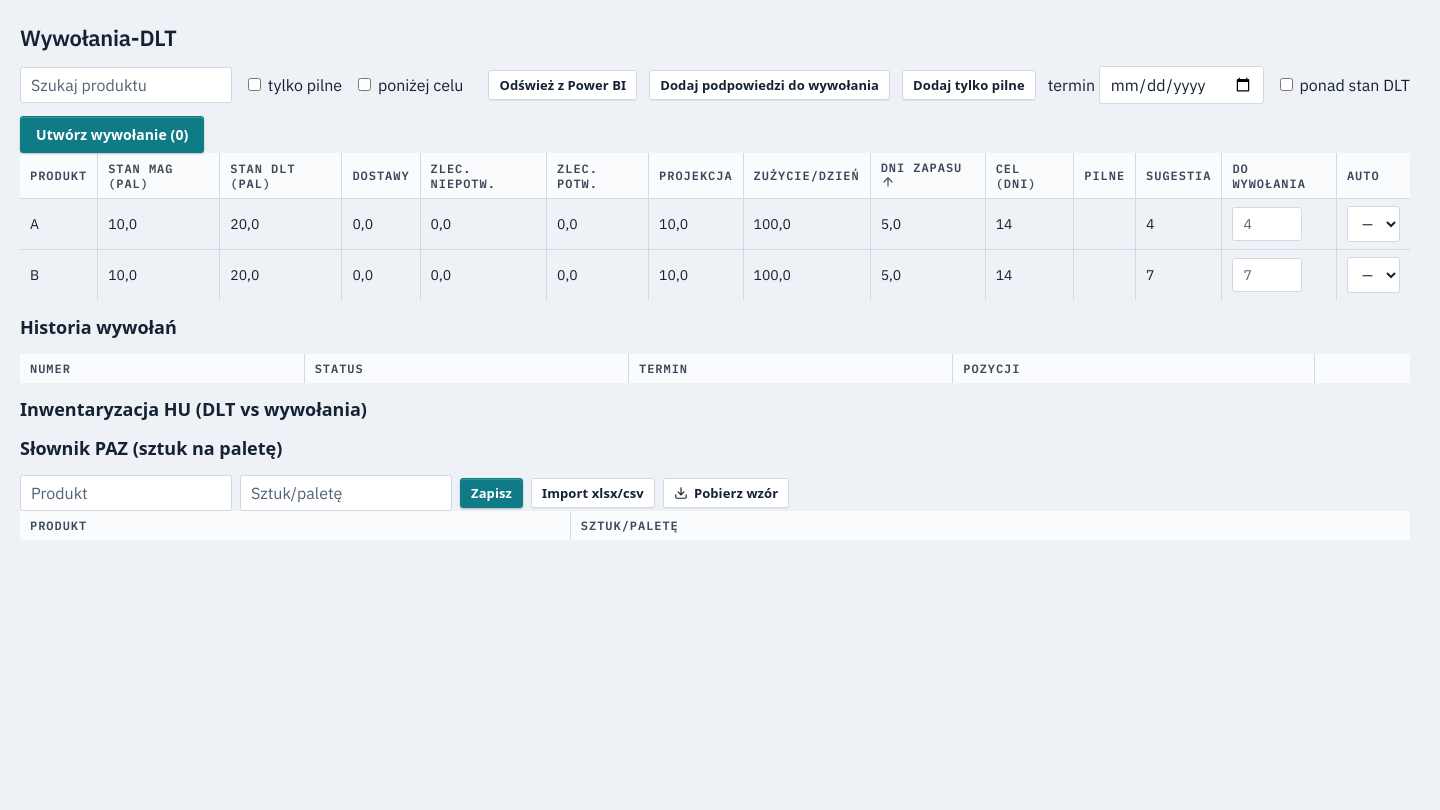
Test: kreator wywołania › prefill z podpowiedzi + przydział auta pokazuje licznik zajętości
expect the text "A" is shown: met, box [20, 198, 98, 249]
Click the button "Dodaj podpowiedzi do wywołania" at (770, 86), box [649, 70, 890, 100]
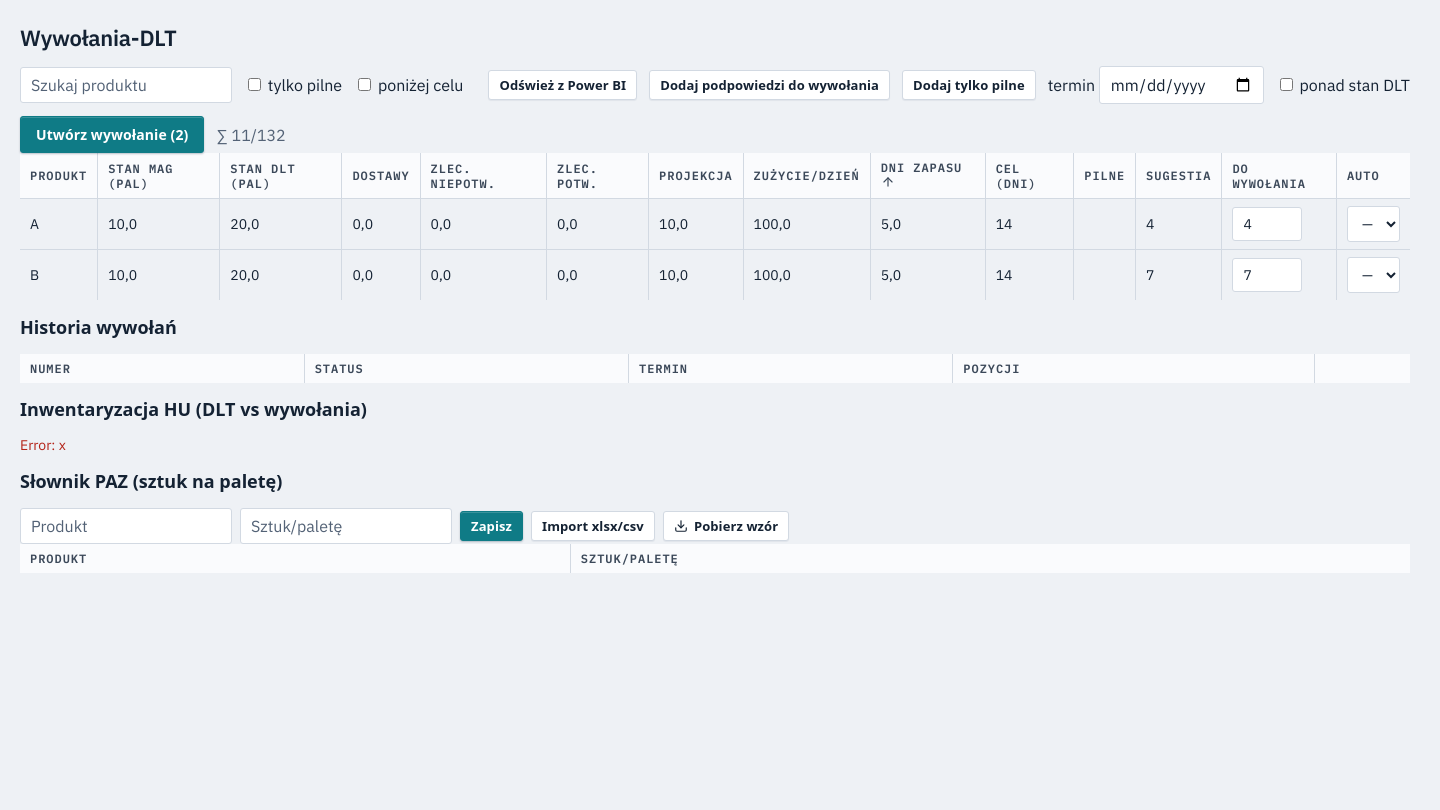
expect the button "Utwórz wywołanie (2)" is shown: met, box [20, 116, 204, 154]
Select "1" in the dropdown named "Auto A" at (1373, 224), box [1347, 206, 1400, 242]
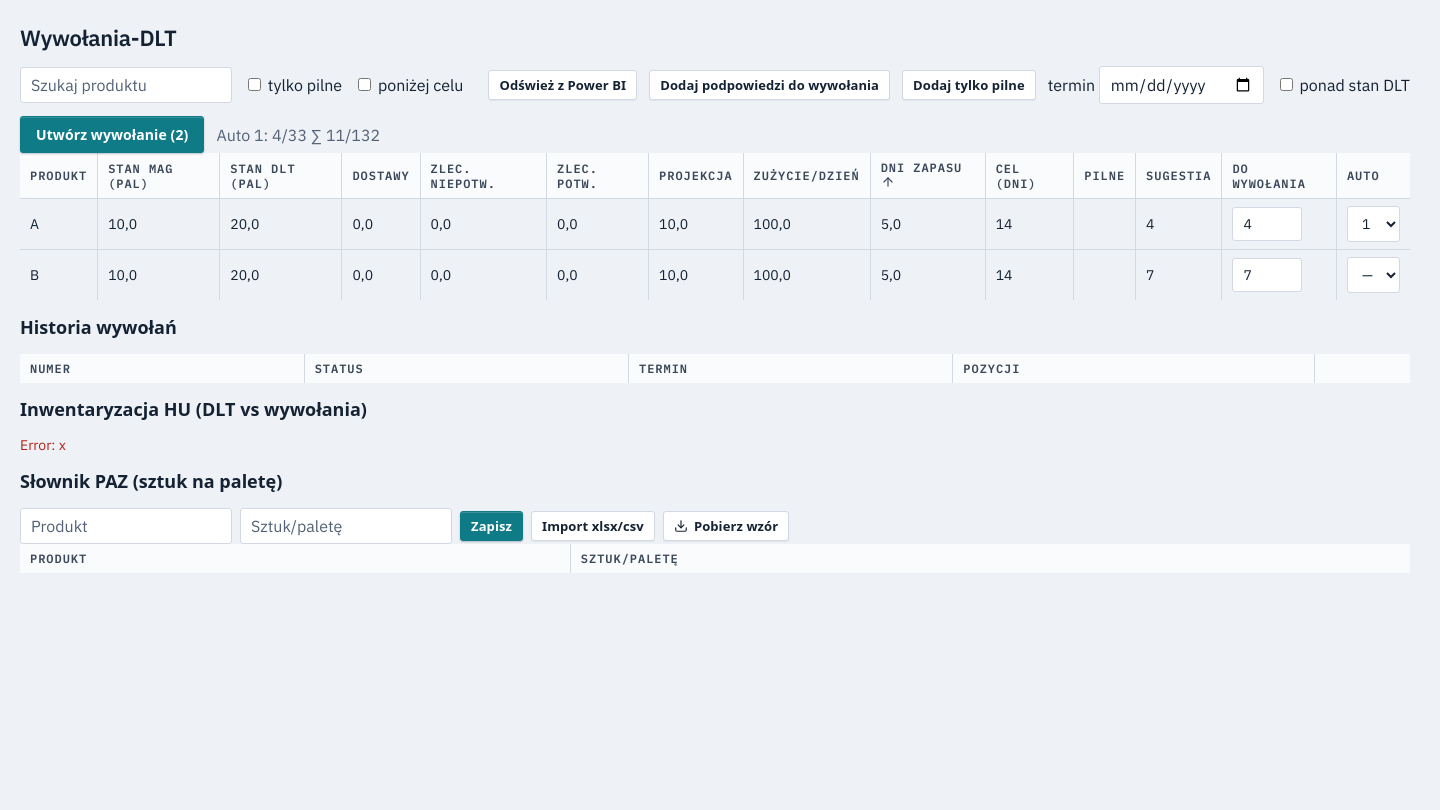
Select "1" in the dropdown named "Auto B" at (1373, 275), box [1347, 257, 1400, 293]
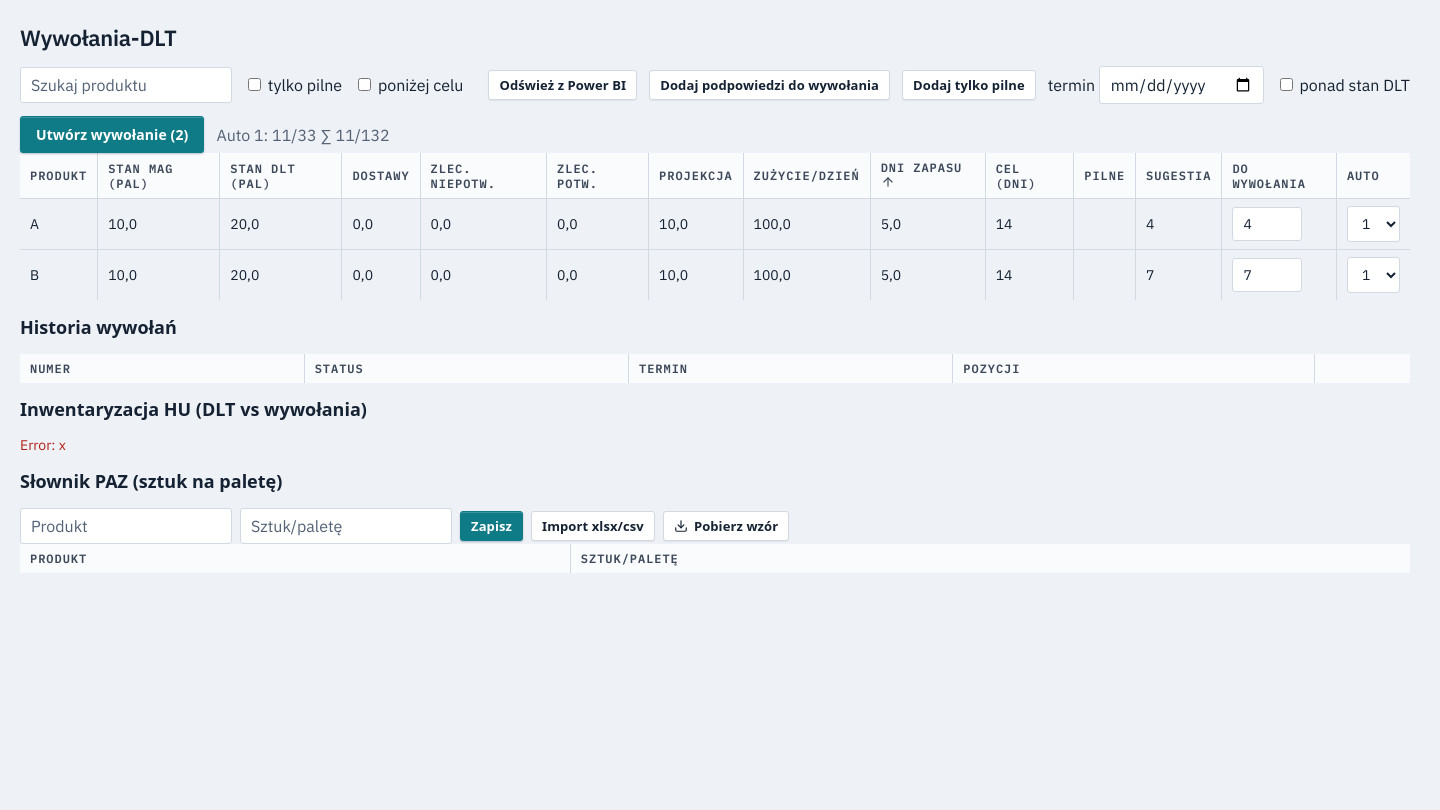
expect the text with test id "truck-loads" shows "∑ 11/132": met, box [216, 125, 390, 145]
expect the text with test id "truck-loads" shows "Auto 1: 11/33": met, box [216, 125, 317, 145]
